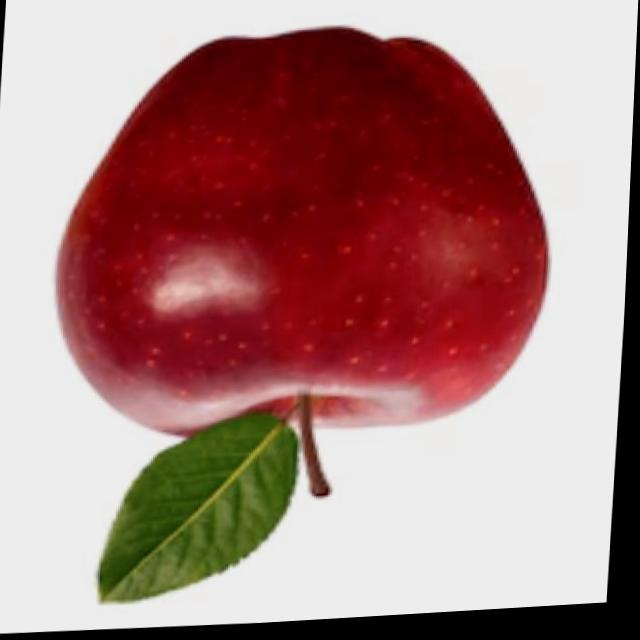Apple: (43, 15, 565, 521)
